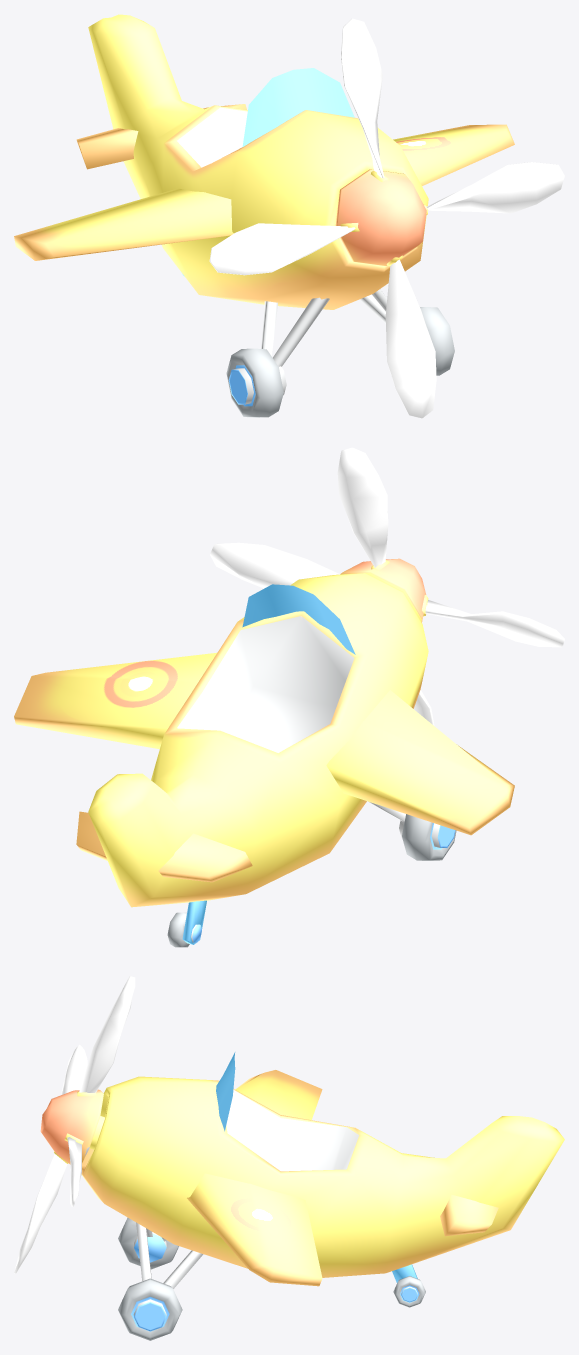
Rendered from aeroplane.glb.
The picture shows the model from 3 angles, top to bottom: view 1: azimuth 30°, elevation 25°; view 2: azimuth 150°, elevation 25°; view 3: azimuth 270°, elevation 25°; orthographic projection. The views are drawn at different scales.
Parts seen in each view (by area): view 1: Cube.015, Cube.008; view 2: Cube.015, Cube.008; view 3: Cube.015, Cube.008.
Part boxes in pixels (x1,y1,x2,y2): Cube.015: [14, 14, 514, 417]; Cube.008: [209, 18, 564, 418]; Cube.015: [14, 573, 514, 947]; Cube.008: [210, 447, 564, 725]; Cube.015: [81, 1052, 564, 1340]; Cube.008: [14, 976, 135, 1273].
Size of the model in its own units: 11.72 by 9.07 by 13.82.
